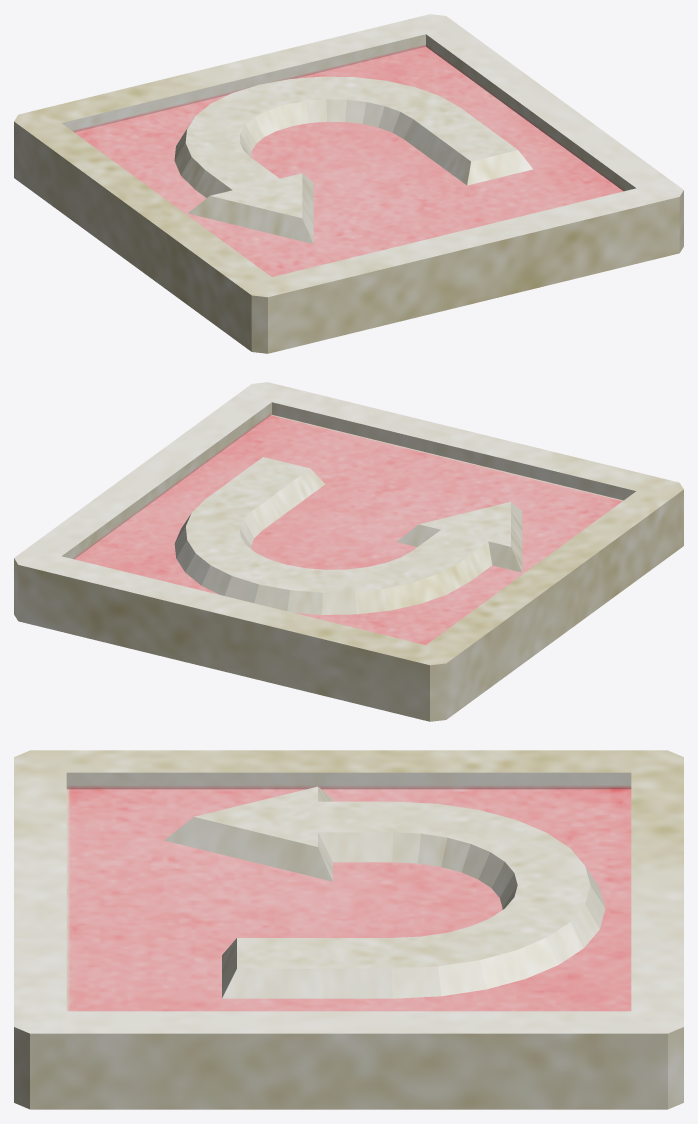
File: UTurn.fbx
The picture shows the model from 3 angles, top to bottom: view 1: azimuth 30°, elevation 25°; view 2: azimuth 150°, elevation 25°; view 3: azimuth 270°, elevation 25°; orthographic projection. The views are drawn at different scales.
Visible parts, largest first — view 1: Line007; view 2: Line007; view 3: Line007.
Part boxes in pixels (bbox=[...]): Line007: bbox=[14, 14, 683, 353]; Line007: bbox=[14, 382, 683, 721]; Line007: bbox=[14, 750, 683, 1109].
Bounding box in the file's own units: 31.5 × 4.29 × 31.5.
1 material, 1 textured.
